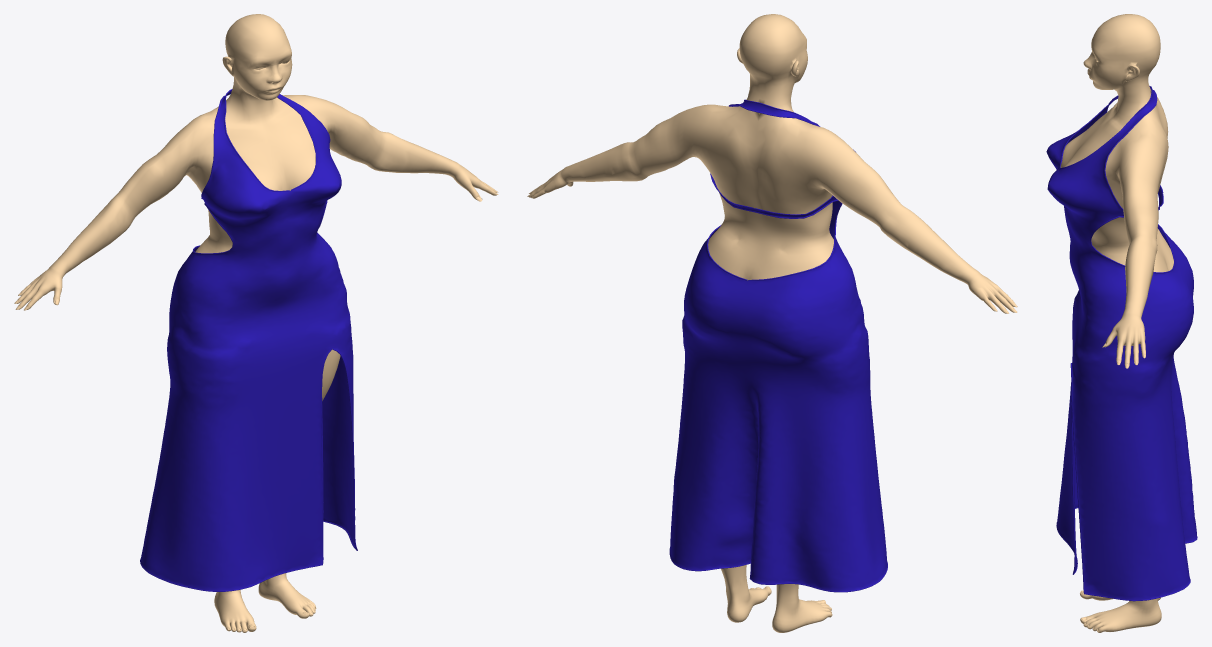
Rendered from dress9.glb.
3 renders of one model, left to right at view 1: azimuth 30°, elevation 25°; view 2: azimuth 150°, elevation 25°; view 3: azimuth 270°, elevation 25°, orthographic.
Parts seen in each view (by area): view 1: EveningDress, Body; view 2: EveningDress, Body; view 3: EveningDress, Body.
Part boxes in pixels (x1,y1,x2,y2): EveningDress: (140,89,357,591); Body: (17,14,497,632); EveningDress: (669,99,887,592); Body: (529,14,1014,632); EveningDress: (1046,86,1197,601); Body: (1060,14,1173,632).
Bounding box in the file's own units: 1.58 × 1.85 × 0.4261.
